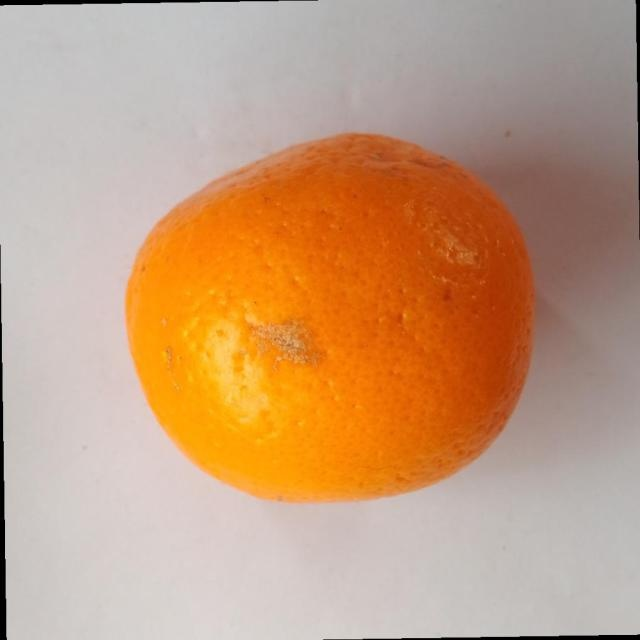agrume: (123, 131, 536, 505)
